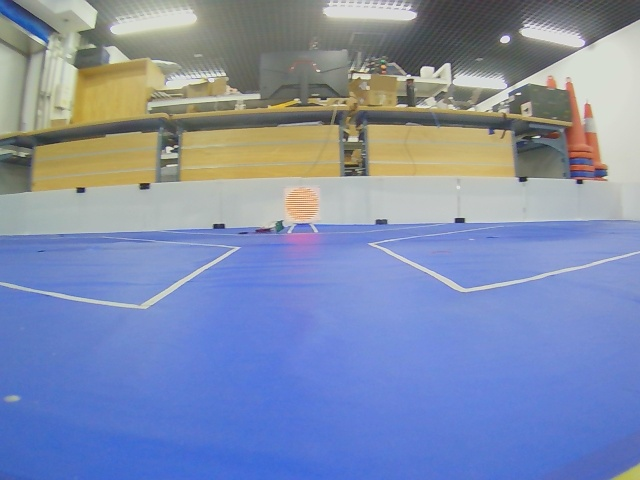red: (285, 187, 320, 224)
